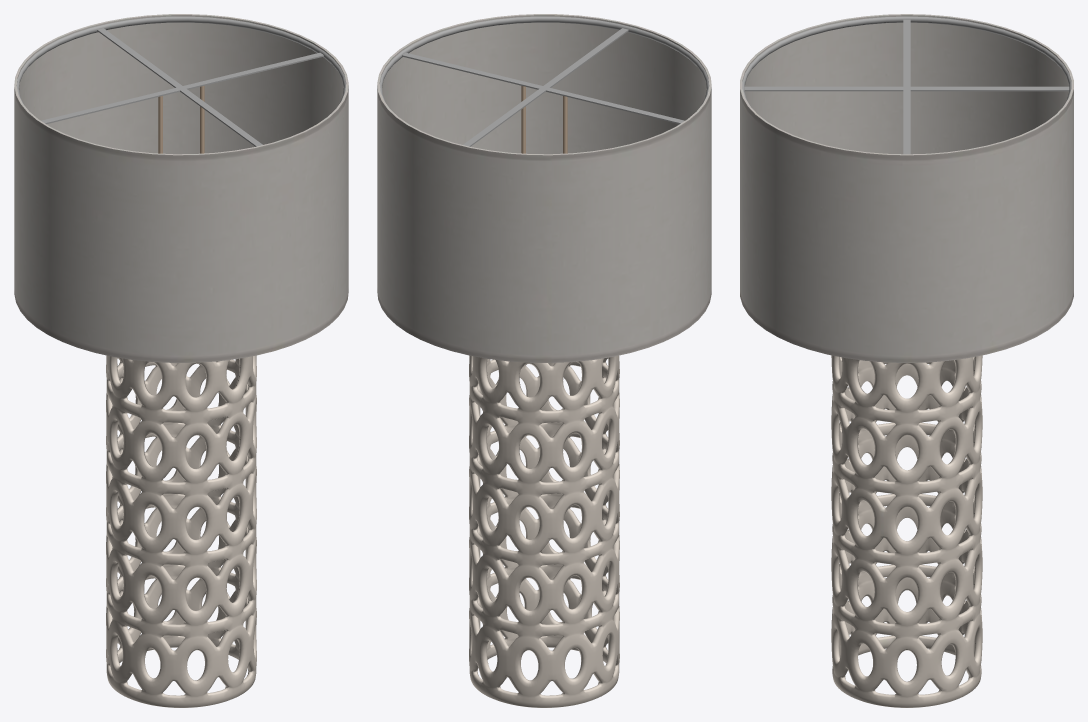
3 views of the same model, side by side, from view 1: azimuth 30°, elevation 25°; view 2: azimuth 150°, elevation 25°; view 3: azimuth 270°, elevation 25° (orthographic).
Parts seen in each view (by area): view 1: RootNode; view 2: RootNode; view 3: RootNode.
Boxes of the visible parts, bbox=[...] form: RootNode: bbox=[14, 14, 348, 707]; RootNode: bbox=[377, 14, 711, 707]; RootNode: bbox=[740, 14, 1073, 707].
Bounding box in the file's own units: 0.325 × 0.6358 × 0.3244.
1 material, 1 textured.
